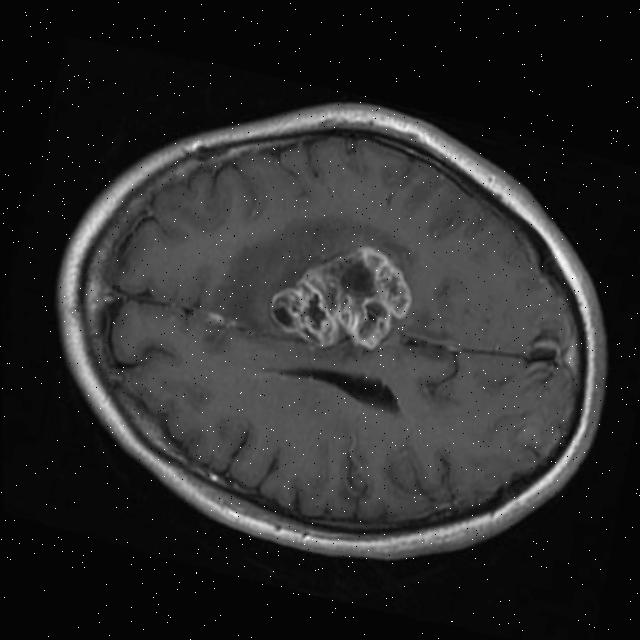Glioma: (260, 225, 422, 369)
